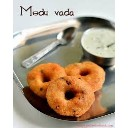vada: (49, 77, 98, 114), (29, 62, 69, 97), (65, 62, 106, 89)
